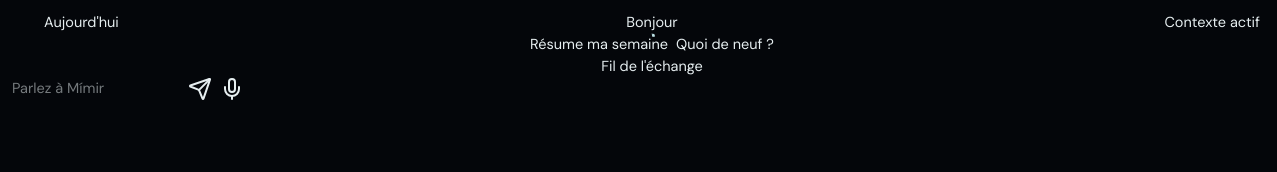
Test case: Assistant › SuggestionChips › hides the suggestion chips during a request
Type "Résume ma semaine" into the field with placeholder "Parlez à Mímir". click: [96, 89]
box: [12,78,180,100]
Then press Enter
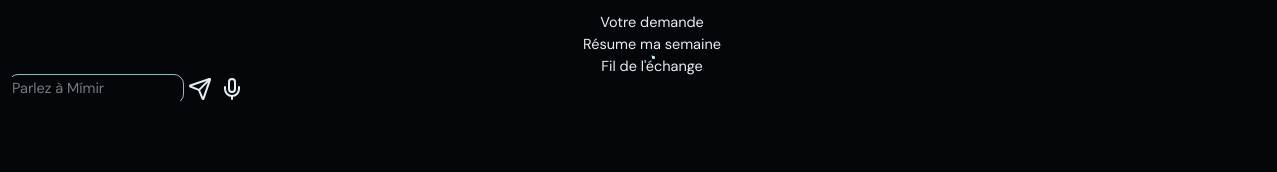
Check: the element with test id "suggestion-chips" is gone
